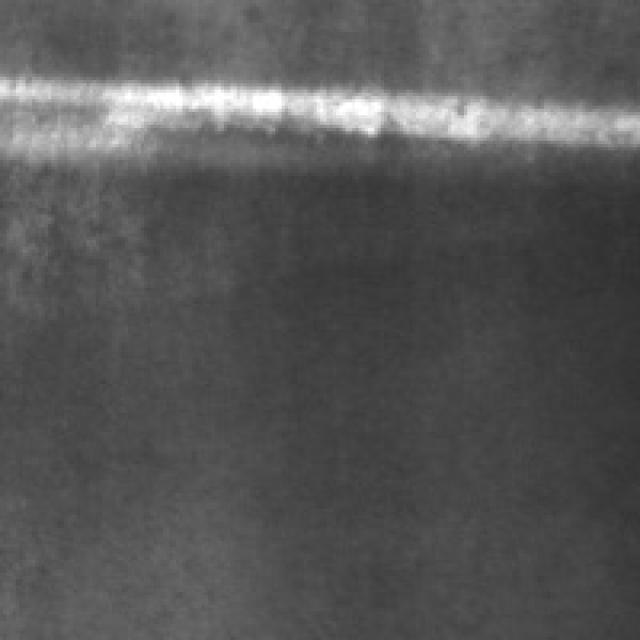scratches: (0, 67, 634, 157)
